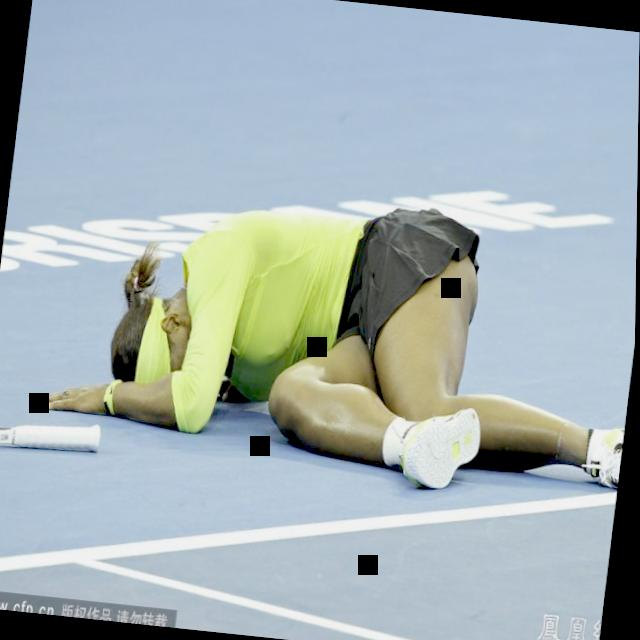Fall-Detected: (36, 149, 638, 519)
